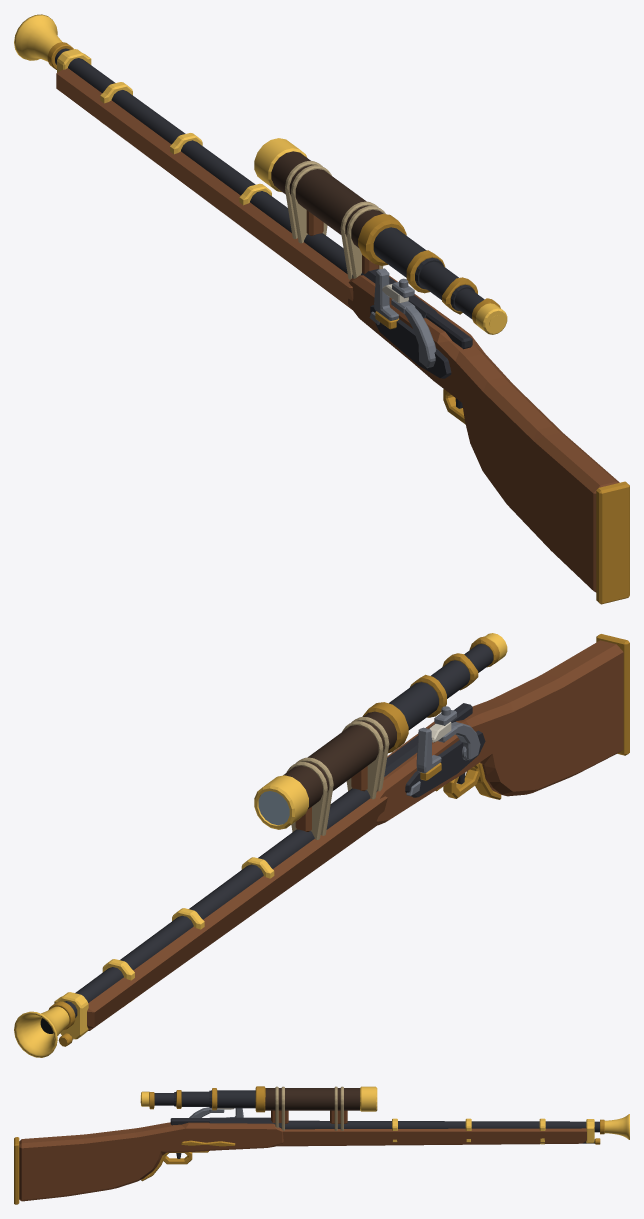
File: w_sniper@sniper_musket.glb
3 renders of one model, top to bottom at view 1: azimuth 30°, elevation 25°; view 2: azimuth 150°, elevation 25°; view 3: azimuth 270°, elevation 25°, orthographic. The views are drawn at different scales.
Visible parts, largest first — view 1: stock_wzA, barrel_wzB, butt_wzN, scope_wzN.001, scope_wzN.003, twine_wzN, lock_wzN.001, scope_wzN.002, scope_wzN, barrel_wzN, band_wzN, lock_wzB; view 2: stock_wzA, barrel_wzB, scope_wzN.001, scope_wzN.003, twine_wzN, scope_wzN.002, lock_wzN.001, barrel_wzN, band_wzN, scope_wzN, lock_wzB, butt_wzN (+3 smaller); view 3: stock_wzA, barrel_wzB, scope_wzN.001, scope_wzN.003, twine_wzN, scope_wzN.002, scope_wzN, band_wzN, barrel_wzN, guard_wzN, butt_wzN, scope_wzN.004 (+2 smaller).
Part boxes in pixels (bbox=[...]): stock_wzA: bbox=[56, 68, 619, 592]; barrel_wzB: bbox=[55, 48, 472, 349]; butt_wzN: bbox=[596, 481, 629, 604]; scope_wzN.001: bbox=[271, 151, 383, 247]; scope_wzN.003: bbox=[373, 227, 484, 318]; twine_wzN: bbox=[285, 161, 385, 279]; lock_wzN.001: bbox=[369, 268, 436, 368]; scope_wzN.002: bbox=[358, 214, 500, 325]; scope_wzN: bbox=[254, 138, 507, 334]; barrel_wzN: bbox=[14, 14, 61, 61]; band_wzN: bbox=[57, 49, 271, 205]; lock_wzB: bbox=[370, 305, 451, 378]; stock_wzA: bbox=[87, 640, 623, 1030]; barrel_wzB: bbox=[64, 703, 472, 1017]; scope_wzN.001: bbox=[283, 711, 396, 809]; scope_wzN.003: bbox=[389, 644, 493, 730]; twine_wzN: bbox=[286, 717, 389, 839]; scope_wzN.002: bbox=[362, 636, 499, 753]; lock_wzN.001: bbox=[406, 706, 480, 796]; barrel_wzN: bbox=[14, 1006, 69, 1057]; band_wzN: bbox=[54, 857, 274, 1039]; scope_wzN: bbox=[254, 633, 507, 829]; lock_wzB: bbox=[405, 730, 485, 797]; butt_wzN: bbox=[596, 634, 629, 755]; stock_wzA: bbox=[19, 1122, 586, 1201]; barrel_wzB: bbox=[170, 1117, 599, 1132]; scope_wzN.001: bbox=[265, 1088, 359, 1110]; scope_wzN.003: bbox=[154, 1090, 255, 1108]; twine_wzN: bbox=[275, 1086, 343, 1130]; scope_wzN.002: bbox=[149, 1086, 265, 1112]; scope_wzN: bbox=[140, 1086, 377, 1111]; band_wzN: bbox=[392, 1118, 594, 1144]; barrel_wzN: bbox=[604, 1114, 629, 1139]; guard_wzN: bbox=[141, 1151, 208, 1181]; butt_wzN: bbox=[14, 1137, 19, 1204]; scope_wzN.004: bbox=[271, 1110, 347, 1123].
Size of the model in its own units: 0.1005 by 0.4255 by 2.09.
